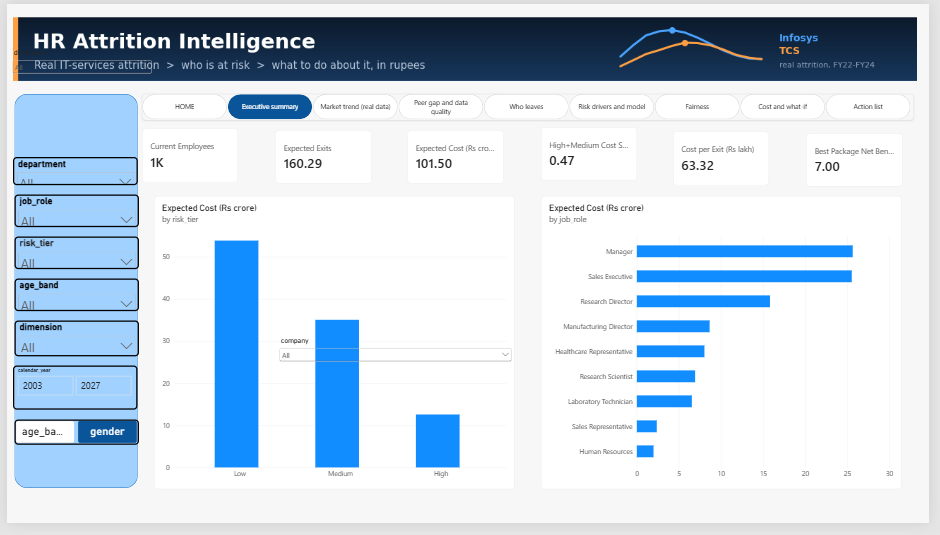

What the dashboard file says about the page in this screenshot:
{"tool":"powerbi","page":{"name":"Executive summary","canvas":[1920,1080],"ordinal":1},"visuals":[{"type":"image","box":[12.2,16.7,1883.3,156.7],"z":0},{"type":"actionButton","box":[43,334.2,62,42.1],"z":0,"group":"g1"},{"type":"shape","box":[15.3,188.5,256.8,820.8],"z":1000,"group":"g1"},{"type":"cardVisual","fields":{"Data":["_Measures.Current Employees"]},"box":[281.5,259.6,200.4,112.1],"z":1000},{"type":"cardVisual","fields":{"Data":["_Measures.Expected Exits"]},"box":[558.6,261.6,200,112],"z":2000},{"type":"cardVisual","fields":{"Data":["_Measures.Expected Cost (Rs crore)"]},"box":[835.3,263.5,200,112],"z":3000},{"type":"slicer","fields":{"Values":["mart employee_action_list.job_role"]},"box":[14.8,397,259.6,67.8],"z":3000,"group":"g1"},{"type":"cardVisual","fields":{"Data":["_Measures.Cost per Exit (Rs lakh)"]},"box":[1388.7,265.3,200,112],"z":4000},{"type":"slicer","fields":{"Values":["dim_risk_tier.risk_tier"]},"box":[15.4,484.8,259.6,68],"z":4000,"group":"g1"},{"type":"cardVisual","fields":{"Data":["_Measures.High+Medium Cost Share"]},"box":[1112,257.7,200,112],"z":5000},{"type":"cardVisual","fields":{"Data":["_Measures.Best Package Net Benefit (Rs crore)"]},"box":[1665.4,267.2,200,112],"z":6000},{"type":"slicer","fields":{"Values":["staging hr_employee.age_band"]},"box":[14.2,572.8,259.6,67.8],"z":6000,"group":"g1"},{"type":"clusteredColumnChart","fields":{"Category":["dim_risk_tier.risk_tier"],"Y":["_Measures.Expected Cost (Rs crore)"]},"box":[305.4,398.4,751.6,610.8],"z":7000},{"type":"slicer","fields":{"Values":["mart hr_attrition_by_segment.dimension"]},"box":[16,660.6,259.6,74.4],"z":7000,"group":"g1"},{"type":"slicer","fields":{"Values":["mart employee_action_list.department"]},"box":[11.9,318.5,260.1,58.5],"z":7500,"group":"g1"},{"type":"clusteredBarChart","fields":{"Category":["mart employee_attrition_cost.job_role"],"Y":["_Measures.Expected Cost (Rs crore)"]},"box":[1111.8,398.4,751,610.8],"z":8000},{"type":"slicer","fields":{"Values":["mart dim_quarter.calendar_year"]},"box":[13,755.1,259.6,91.9],"z":8000,"group":"g1"},{"type":"pageNavigator","box":[281.5,188.5,1608.1,54.9],"z":9000},{"type":"advancedSlicerVisual","fields":{"Values":["fairness_by_group.dimension"]},"box":[13.6,867,259.6,52.5],"z":9500,"group":"g1"},{"type":"slicer","fields":{"Values":["mart hr_attrition_by_segment.dimension"]},"box":[5.6,94,300,54.4],"z":10000},{"type":"slicer","fields":{"Values":["mart dim_company.company"]},"box":[563.3,693.3,493.3,263.3],"z":11000},{"type":"group","id":"g1","title":"Group 2","box":[11.9,188.5,262.5,820.8],"z":13000}]}

Visuals, with their boxes in screenshot pixels (x1, y1, x2, y2), scaled from the page's 1920x1080 canvas onto the 940x535 screenshot:
image: (6, 8, 928, 86)
actionButton: (21, 166, 51, 186)
shape: (7, 93, 133, 500)
cardVisual - _Measures.Current Employees: (138, 129, 236, 184)
cardVisual - _Measures.Expected Exits: (273, 130, 371, 185)
cardVisual - _Measures.Expected Cost (Rs crore): (409, 131, 507, 186)
slicer - mart employee_action_list.job_role: (7, 197, 134, 230)
cardVisual - _Measures.Cost per Exit (Rs lakh): (680, 131, 778, 187)
slicer - dim_risk_tier.risk_tier: (8, 240, 135, 274)
cardVisual - _Measures.High+Medium Cost Share: (544, 128, 642, 183)
cardVisual - _Measures.Best Package Net Benefit (Rs crore): (815, 132, 913, 188)
slicer - staging hr_employee.age_band: (7, 284, 134, 317)
clusteredColumnChart - dim_risk_tier.risk_tier x _Measures.Expected Cost (Rs crore): (150, 197, 517, 500)
slicer - mart hr_attrition_by_segment.dimension: (8, 327, 135, 364)
slicer - mart employee_action_list.department: (6, 158, 133, 187)
clusteredBarChart - mart employee_attrition_cost.job_role x _Measures.Expected Cost (Rs crore): (544, 197, 912, 500)
slicer - mart dim_quarter.calendar_year: (6, 374, 133, 420)
pageNavigator: (138, 93, 925, 121)
advancedSlicerVisual - fairness_by_group.dimension: (7, 429, 134, 455)
slicer - mart hr_attrition_by_segment.dimension: (3, 47, 150, 74)
slicer - mart dim_company.company: (276, 343, 517, 474)
"Group 2" group: (6, 93, 134, 500)
